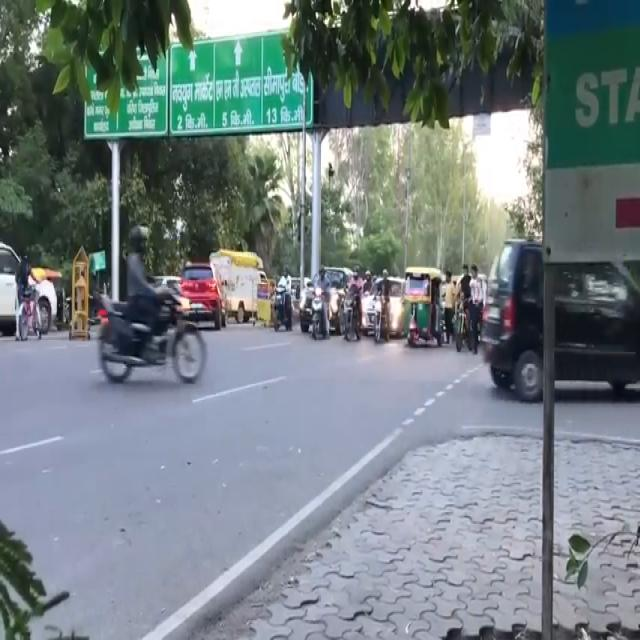MOTORCYCLE: (98, 287, 210, 388)
SED: (485, 234, 640, 404)
